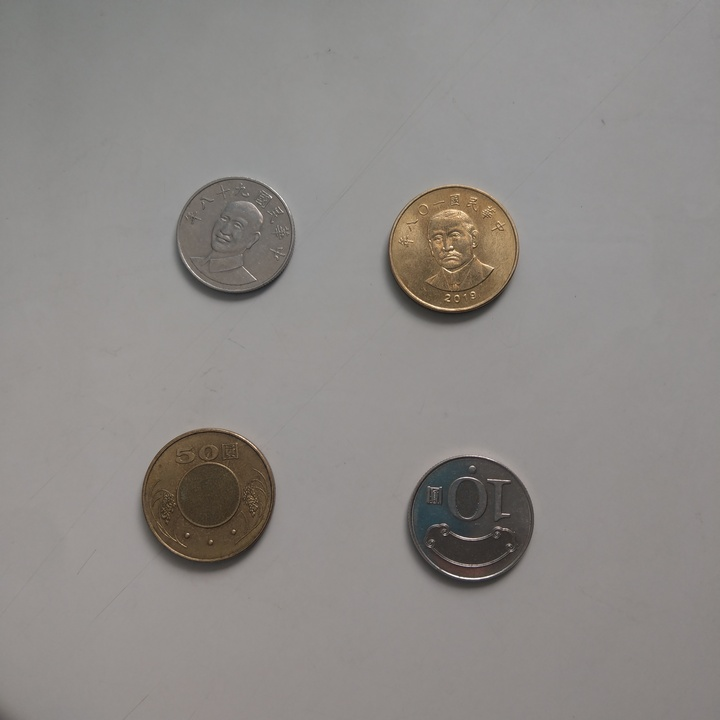10 dollar: (406, 453, 534, 585), (174, 173, 296, 300)
50 dollar: (137, 426, 277, 570), (383, 183, 523, 317)
